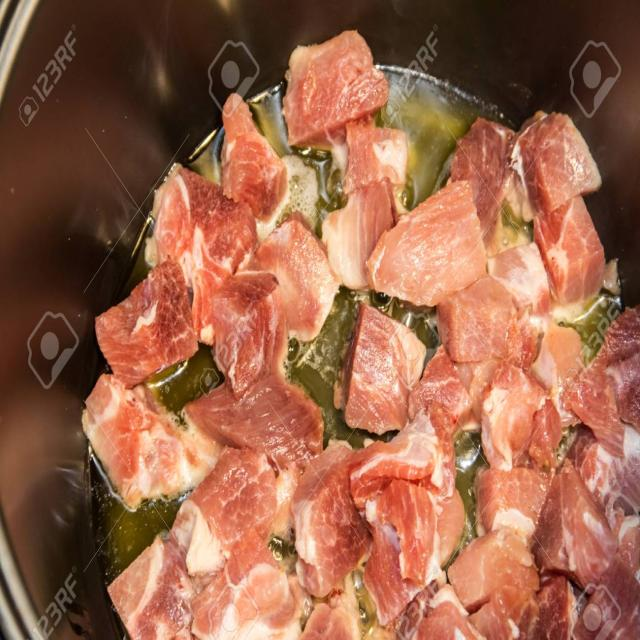carne de cerdo: (369, 184, 487, 314)
